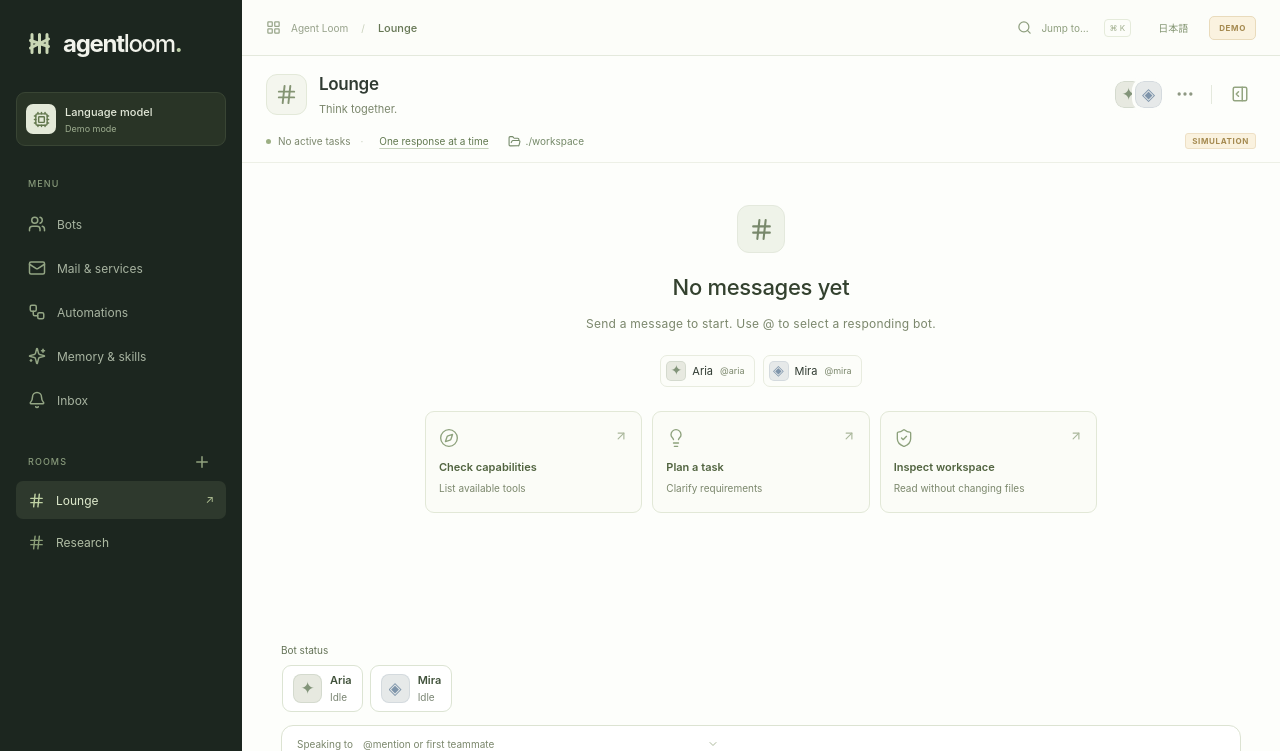
Test: main pages use direct functional headings instead of promotional copy
The image size is (1280, 751).
Click the button "Bots": (121, 224) [16,204,226,244]
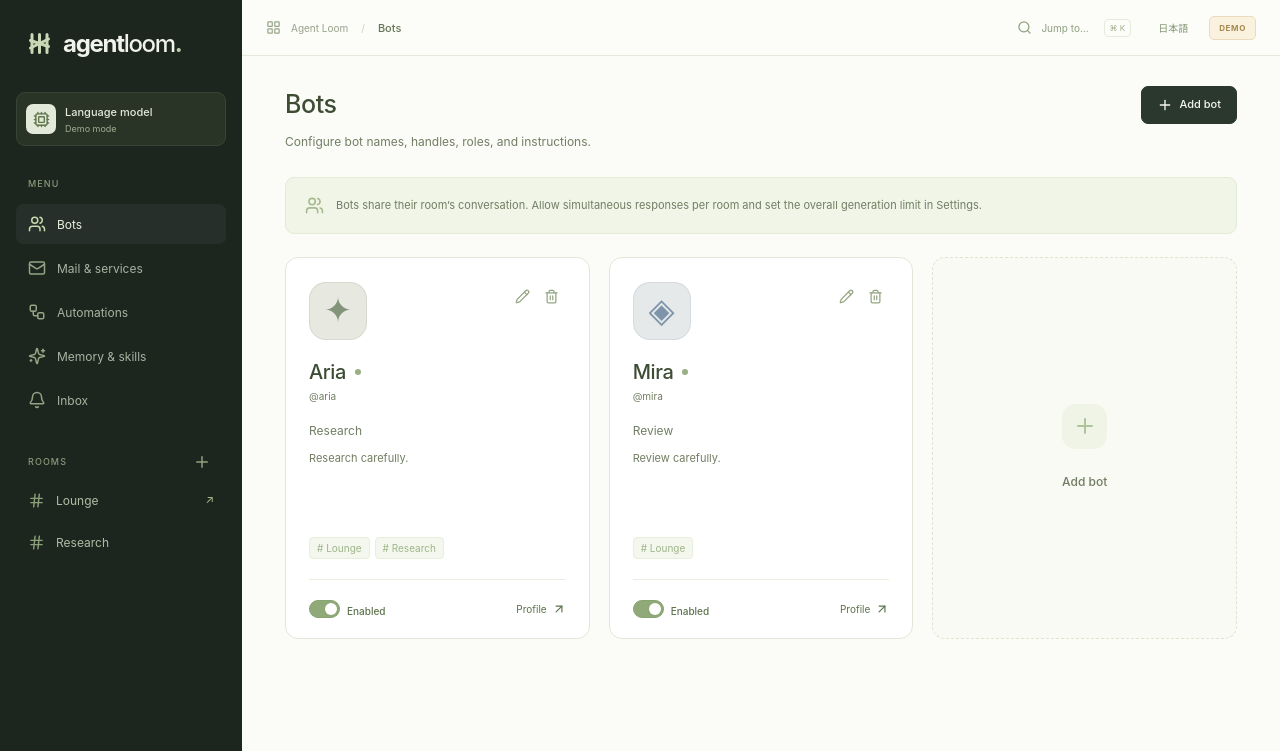
Expected: the text "Bots" below "MENU" is shown, [57,216,82,232]
Expected: the element with class "eyebrow" is not shown
Click the button "Automations": (121, 312) [16,292,226,332]
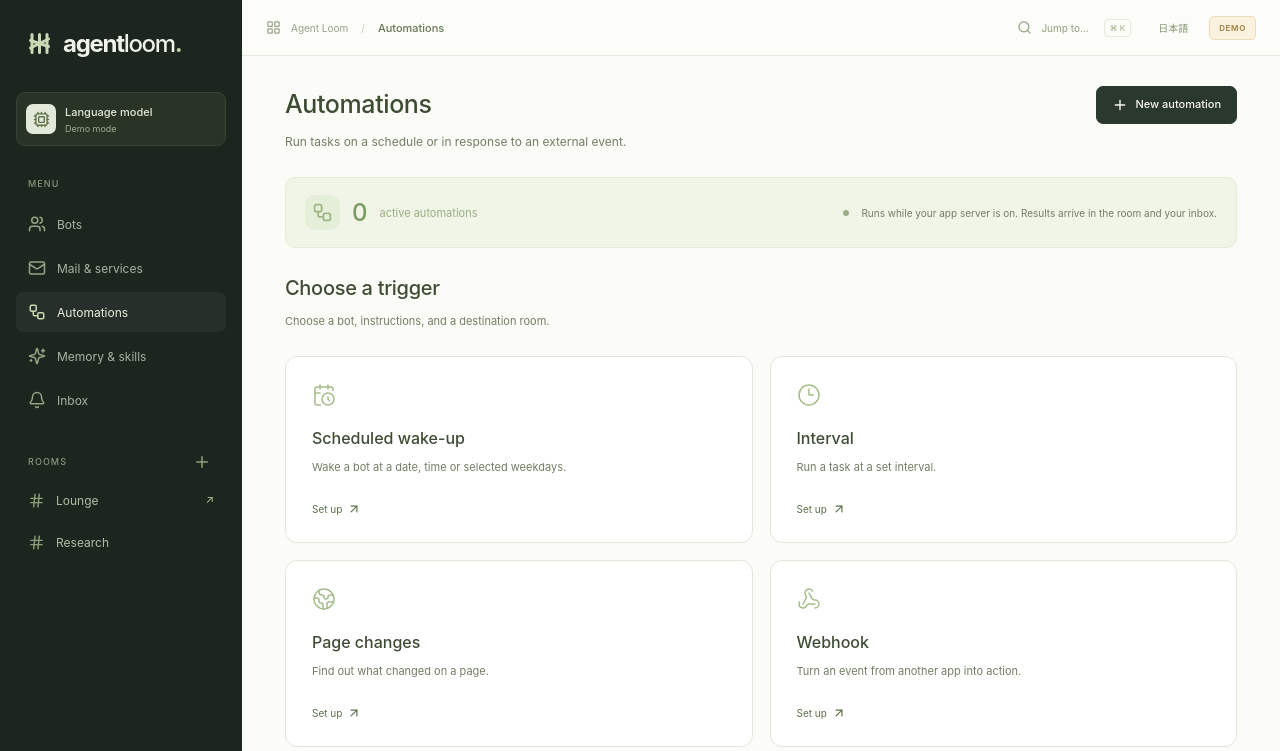
Expected: the text "Automations" below "MENU" is shown, [57,304,128,320]
Expected: the element with class "eyebrow" is not shown
Click the button "Memory & skills": (121, 356) [16,336,226,376]
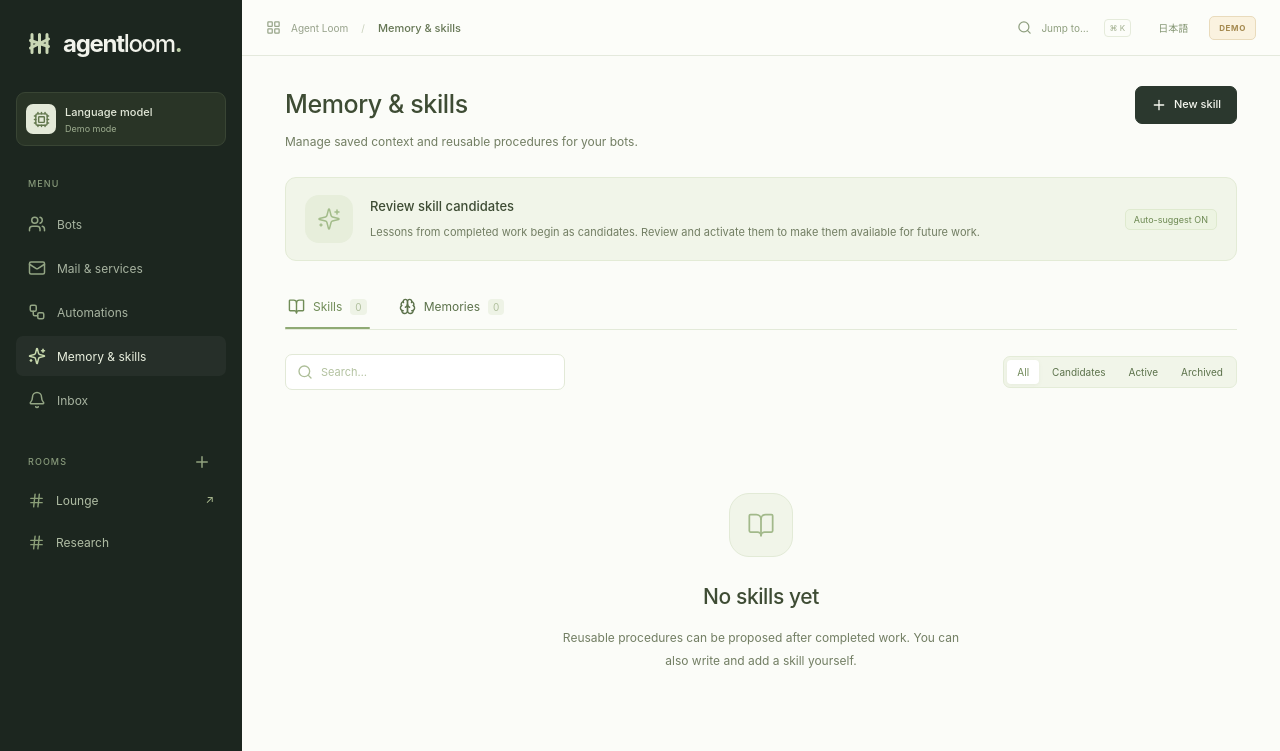
Expected: the text "Memory & skills" below "MENU" is shown, [57,348,146,364]
Expected: the element with class "eyebrow" is not shown
Click the button "Inbox": (121, 400) [16,380,226,420]
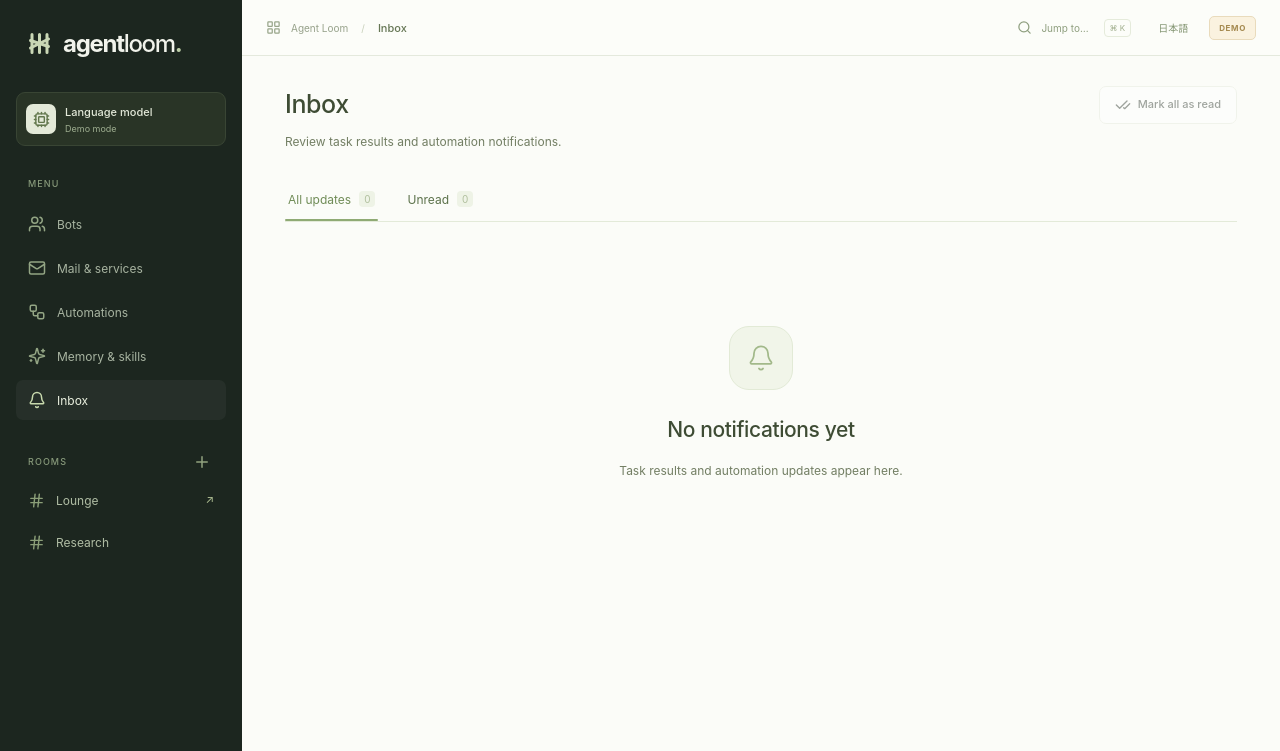
Expected: the text "Inbox" below "MENU" is shown, [57,392,88,408]
Expected: the element with class "eyebrow" is not shown
Click the button named "日本語に切り替え": (1173, 28) [1153,15,1193,40]
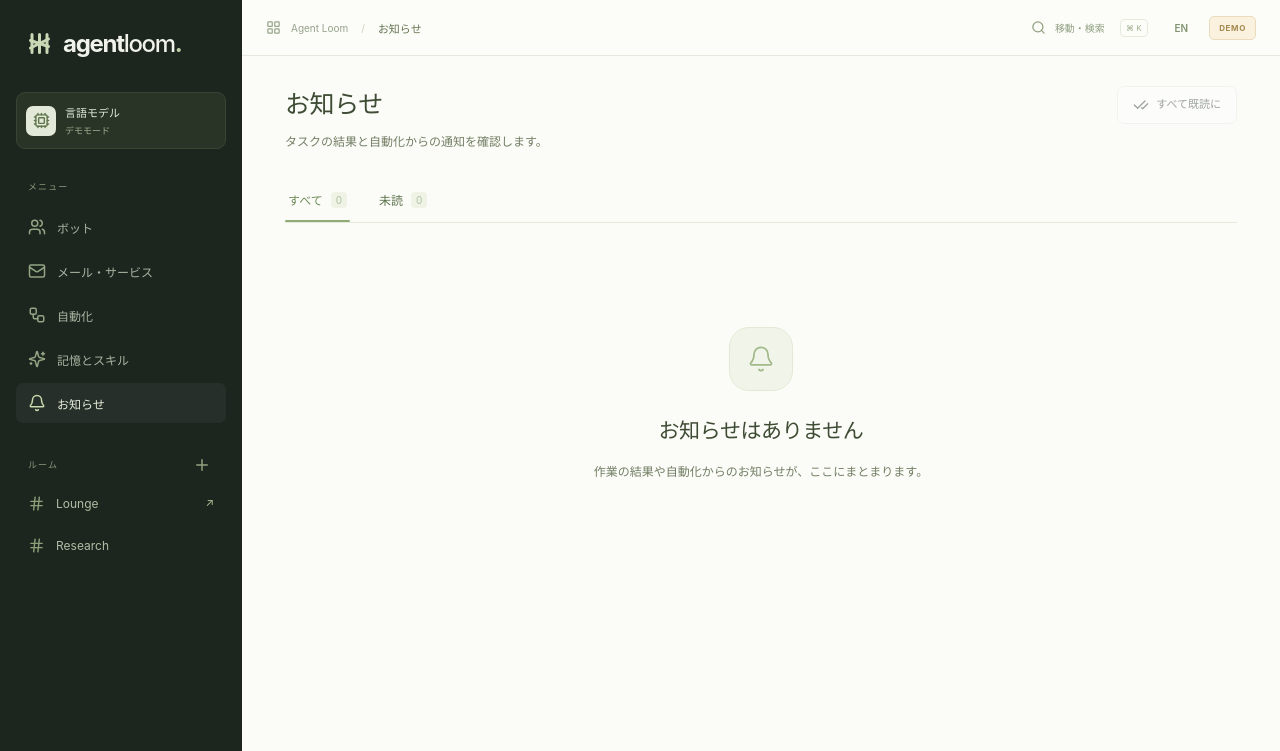
Now the text "お知らせ" below "メニュー" is shown, box [57,396,105,412]
